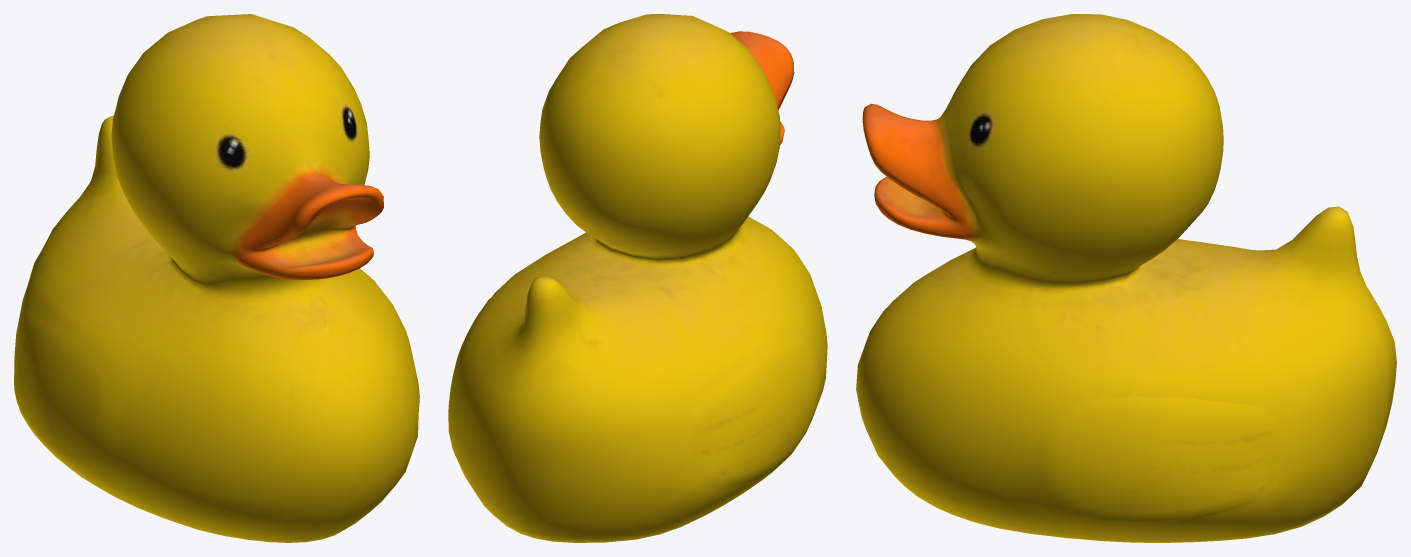
The model's file is canard.glb.
The picture shows the model from 3 angles, left to right: view 1: azimuth 30°, elevation 25°; view 2: azimuth 150°, elevation 25°; view 3: azimuth 270°, elevation 25°; orthographic projection. The views are drawn at different scales.
Visible parts, largest first — view 1: canard; view 2: canard; view 3: canard.
Part boxes in pixels (left/top/right/bottom): canard: left=14, top=14, right=419, bottom=542; canard: left=448, top=14, right=827, bottom=542; canard: left=856, top=14, right=1396, bottom=542.
Size of the model in its own units: 0.2135 by 0.2855 by 0.3.
1 material, 1 textured.
